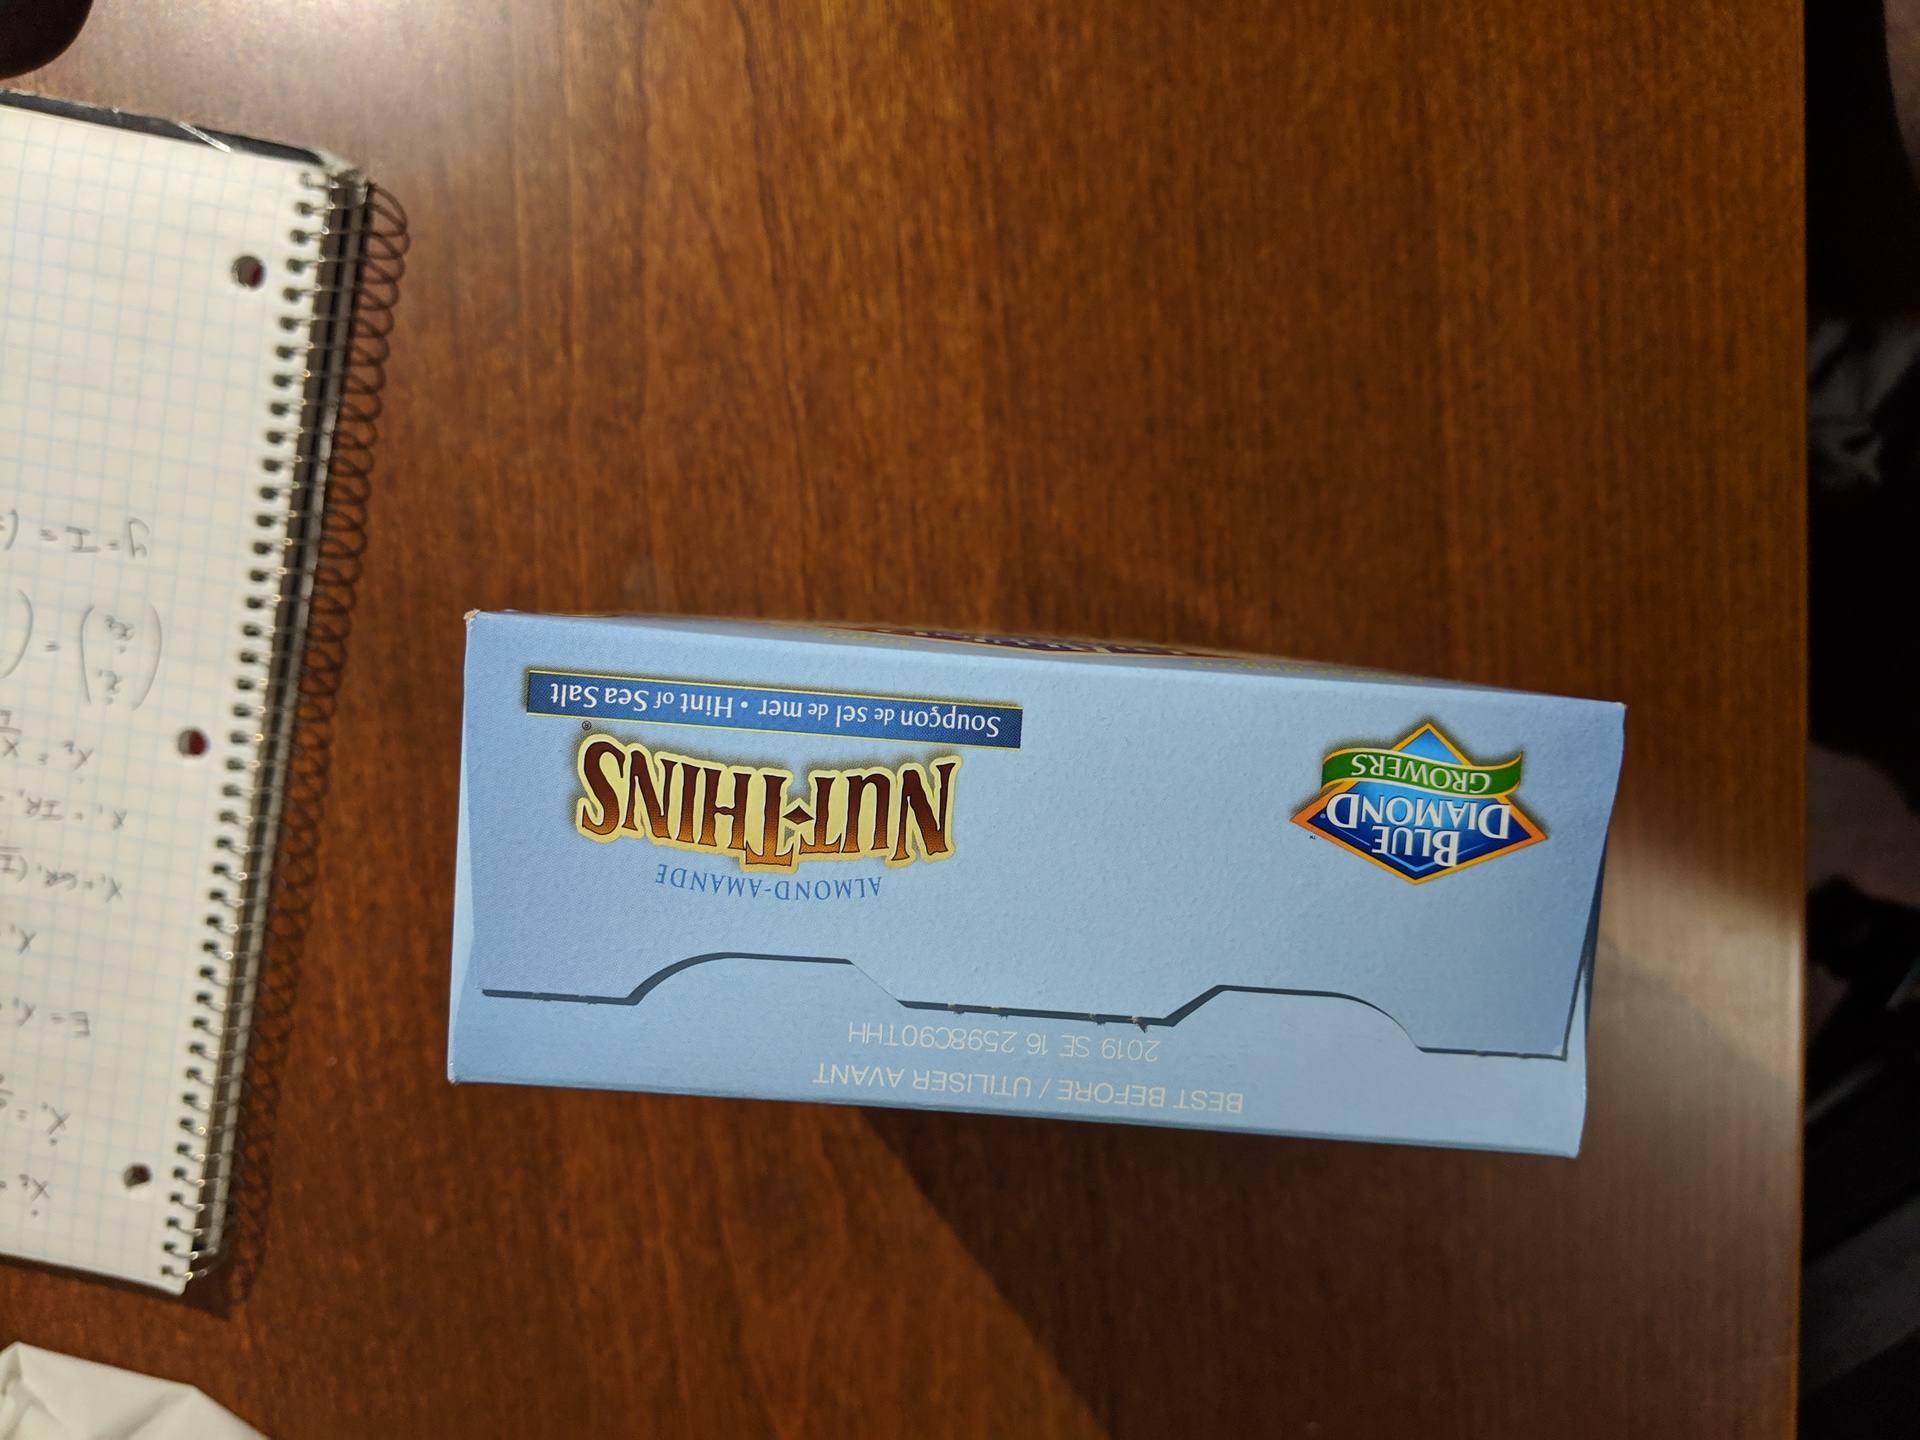blue_diamond_nut_thins_almond_seasalt: (454, 610, 1609, 1163)
